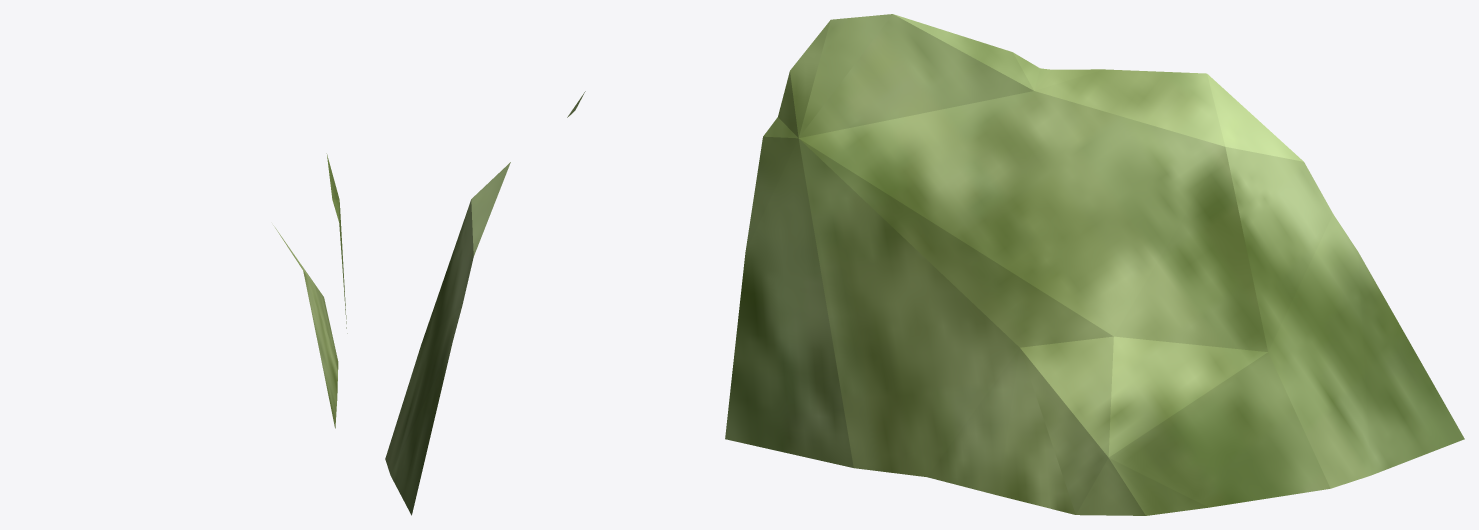
3 renders of one model, left to right at view 1: azimuth 30°, elevation 25°; view 2: azimuth 150°, elevation 25°; view 3: azimuth 270°, elevation 25°, orthographic. The views are drawn at different scales.
Bounding box in the file's own units: 0.234 × 0.6043 × 0.9529.
1 material, 1 textured.
